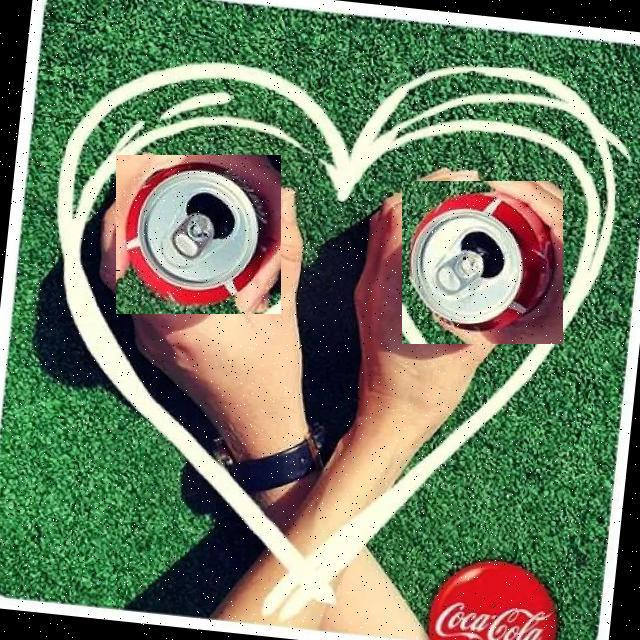coca-cola: (402, 181, 563, 344), (116, 155, 281, 314)
